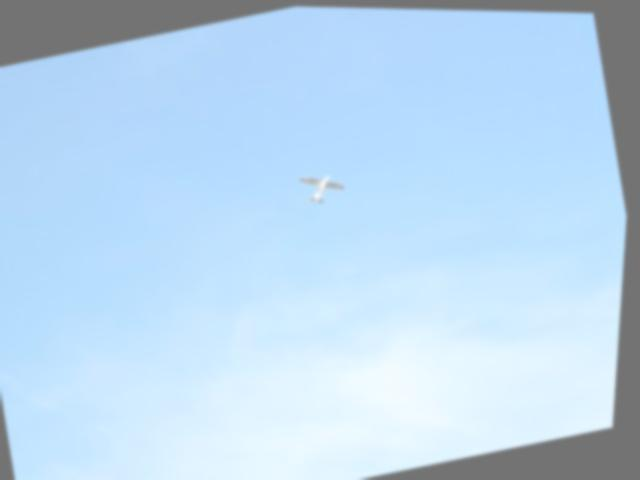uav: (294, 157, 357, 213)
